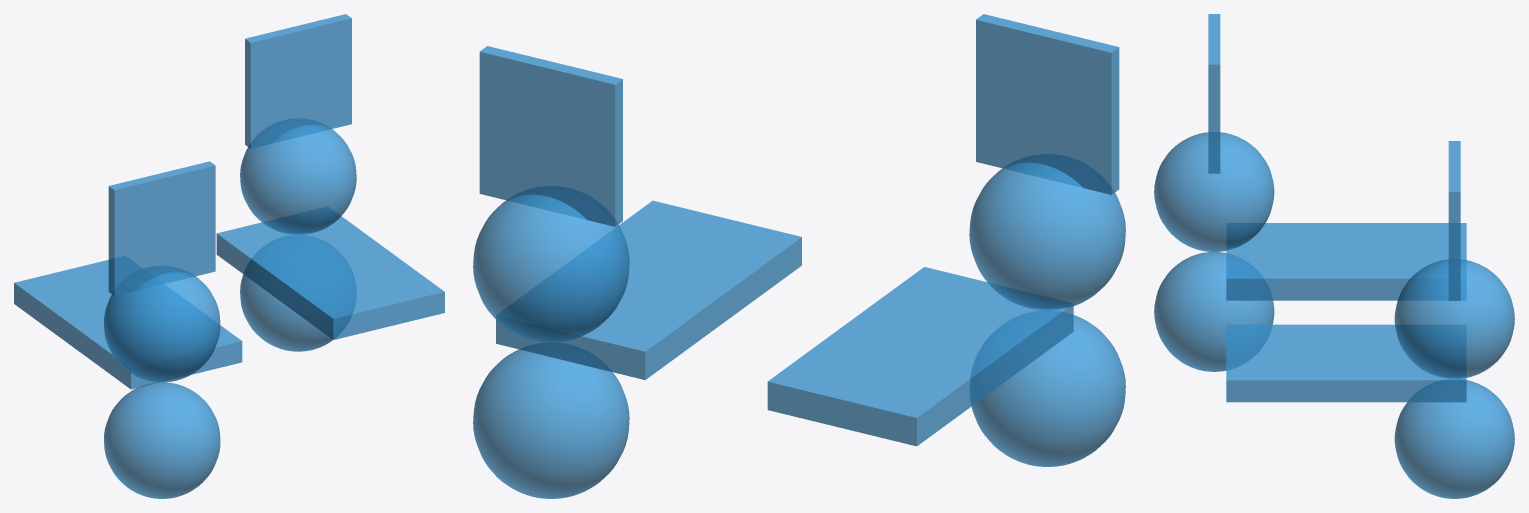
File: TELTENTT20KIT.glb
3 renders of one model, left to right at view 1: azimuth 30°, elevation 25°; view 2: azimuth 150°, elevation 25°; view 3: azimuth 270°, elevation 25°, orthographic. The views are drawn at different scales.
Parts seen in each view (by area): view 1: CustomShape_rectangle_1743671902543 (×2), CustomShape_rectangle_1743704649091 (×2), CustomShape_sphere_1743672368439 (×2), CustomShape_sphere_1743672480191 (×2); view 2: CustomShape_rectangle_1743671902543 (×2), CustomShape_rectangle_1743704649091 (×2), CustomShape_sphere_1743672480191 (×2), CustomShape_sphere_1743672368439 (×2); view 3: CustomShape_rectangle_1743671902543 (×2), CustomShape_sphere_1743672368439 (×2), CustomShape_sphere_1743672480191 (×2), CustomShape_rectangle_1743704649091 (×2).
Boxes of the visible parts, box(x1,y1,x2,y2) form: CustomShape_rectangle_1743671902543 (×2): box(14, 207, 444, 389); CustomShape_rectangle_1743704649091 (×2): box(108, 14, 351, 295); CustomShape_sphere_1743672368439 (×2): box(104, 119, 356, 382); CustomShape_sphere_1743672480191 (×2): box(104, 235, 355, 498); CustomShape_rectangle_1743671902543 (×2): box(496, 200, 1073, 446); CustomShape_rectangle_1743704649091 (×2): box(479, 14, 1119, 226); CustomShape_sphere_1743672480191 (×2): box(473, 311, 1125, 498); CustomShape_sphere_1743672368439 (×2): box(473, 154, 1125, 342); CustomShape_rectangle_1743671902543 (×2): box(1226, 223, 1466, 402); CustomShape_sphere_1743672368439 (×2): box(1154, 132, 1514, 378); CustomShape_sphere_1743672480191 (×2): box(1154, 252, 1514, 498); CustomShape_rectangle_1743704649091 (×2): box(1208, 14, 1460, 300).
Size of the model in its own units: 3.5 by 3 by 3.
